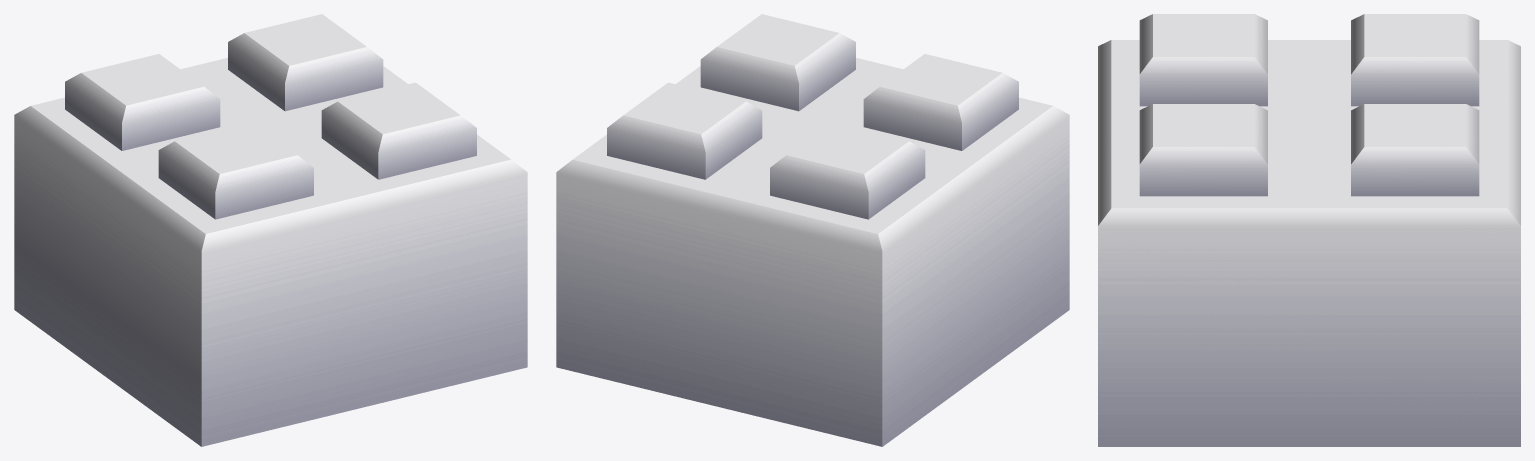
File: square-hq-brick-2x2.glb
3 views of the same model, side by side, from view 1: azimuth 30°, elevation 25°; view 2: azimuth 150°, elevation 25°; view 3: azimuth 270°, elevation 25° (orthographic). The views are drawn at different scales.
Visible parts, largest first — view 1: square-hq-brick-2x2; view 2: square-hq-brick-2x2; view 3: square-hq-brick-2x2.
Boxes of the visible parts, x1=… form: square-hq-brick-2x2: x1=14, y1=14, x2=527, y2=446; square-hq-brick-2x2: x1=556, y1=14, x2=1069, y2=446; square-hq-brick-2x2: x1=1098, y1=14, x2=1520, y2=446.
Bounding box in the file's own units: 0.795 × 0.57 × 0.79.
Materials: 1 (1 with a texture image).
